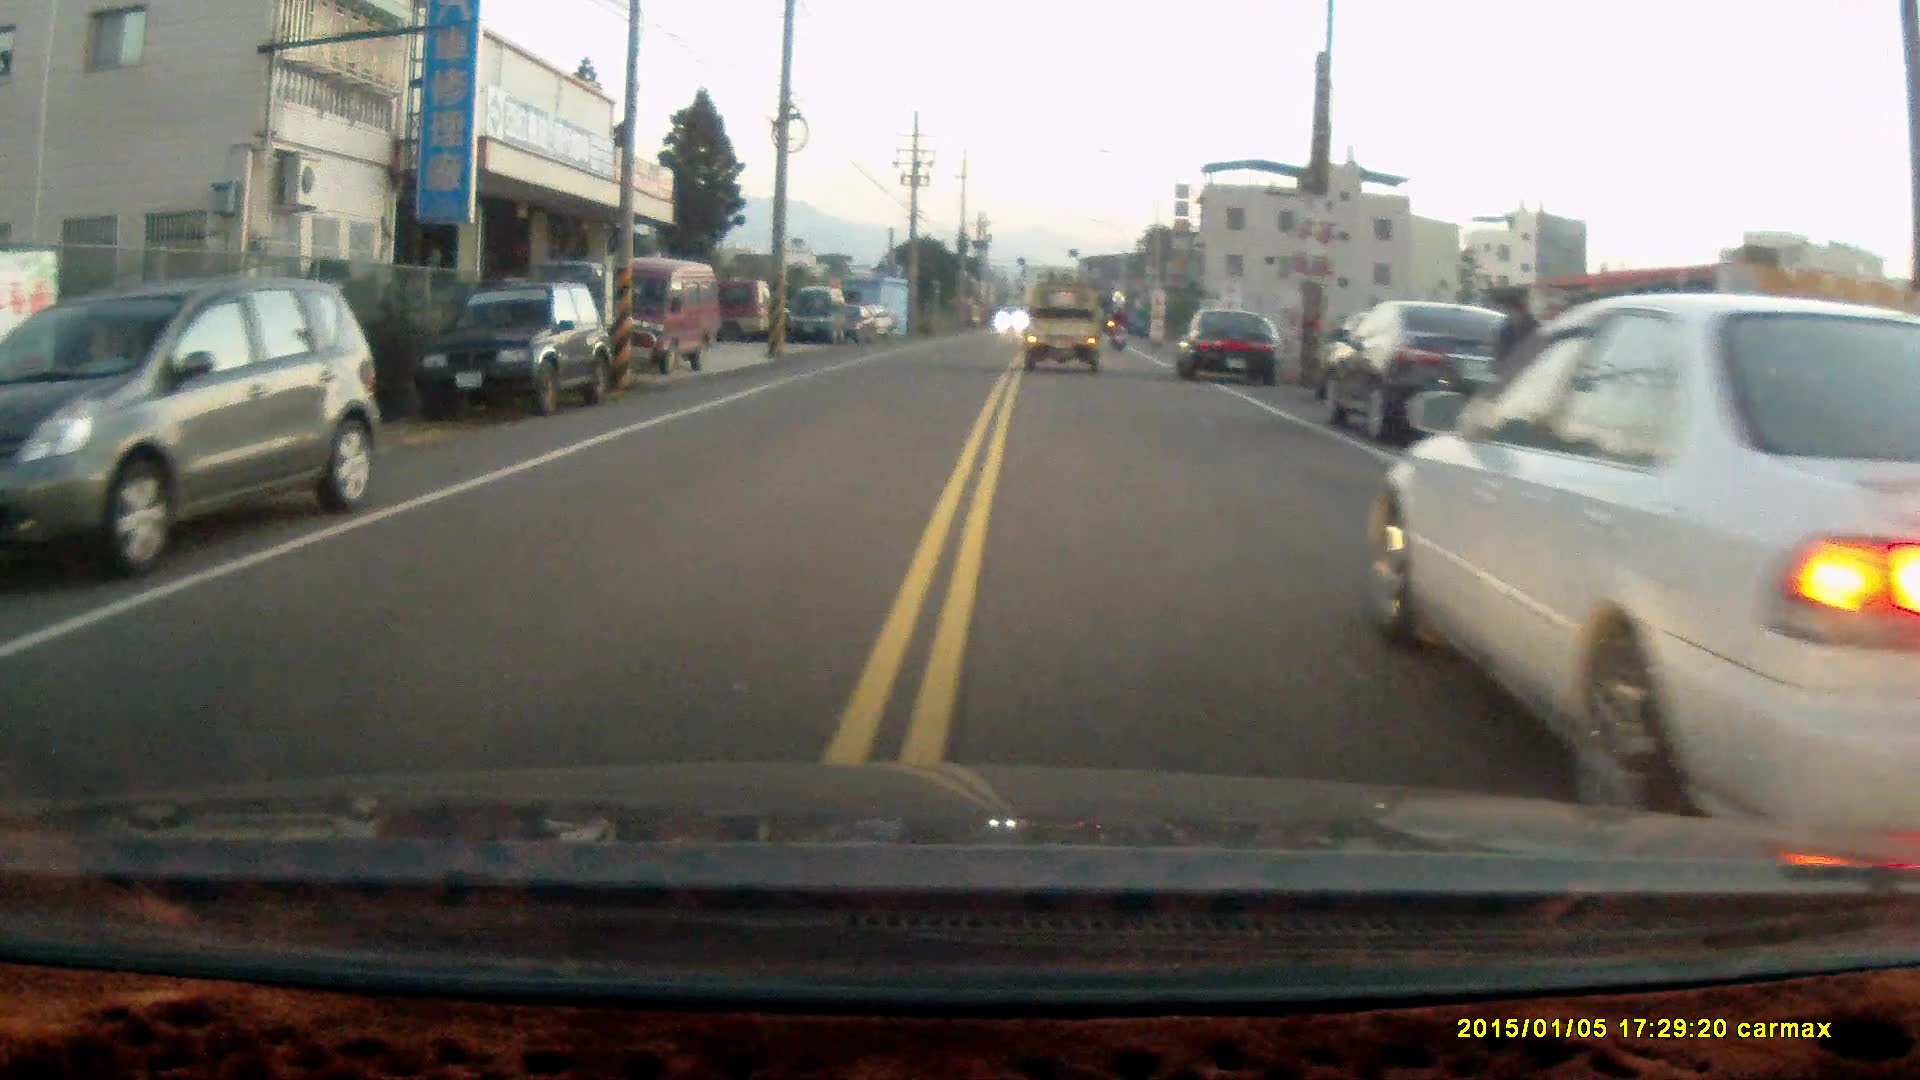pedestrian: (1485, 294, 1546, 450)
rider: (1105, 301, 1131, 349)
vehicle: (1369, 290, 1920, 825), (1, 281, 385, 585), (1325, 295, 1556, 449), (418, 277, 604, 417), (571, 255, 725, 376), (1178, 305, 1286, 382), (1023, 282, 1110, 367), (790, 286, 853, 343)
